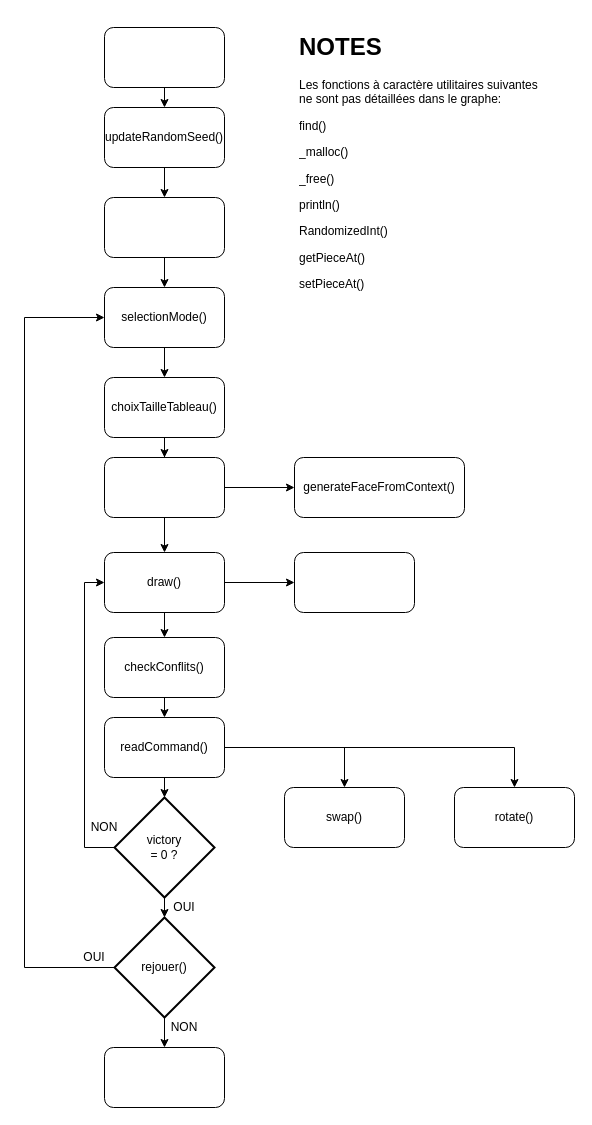
This 592x1125 diagram has some shape labels left out. The shapes that lost their labels are listed below. From the top down, each one's box as (x1, y1, x2, y2) in pixels, then its label:
(104, 26, 224, 88): main()
(104, 196, 224, 258): initDMM()
(104, 456, 224, 518): generateTab()
(294, 552, 414, 612): formatChar()
(104, 1046, 224, 1108): return 0;
